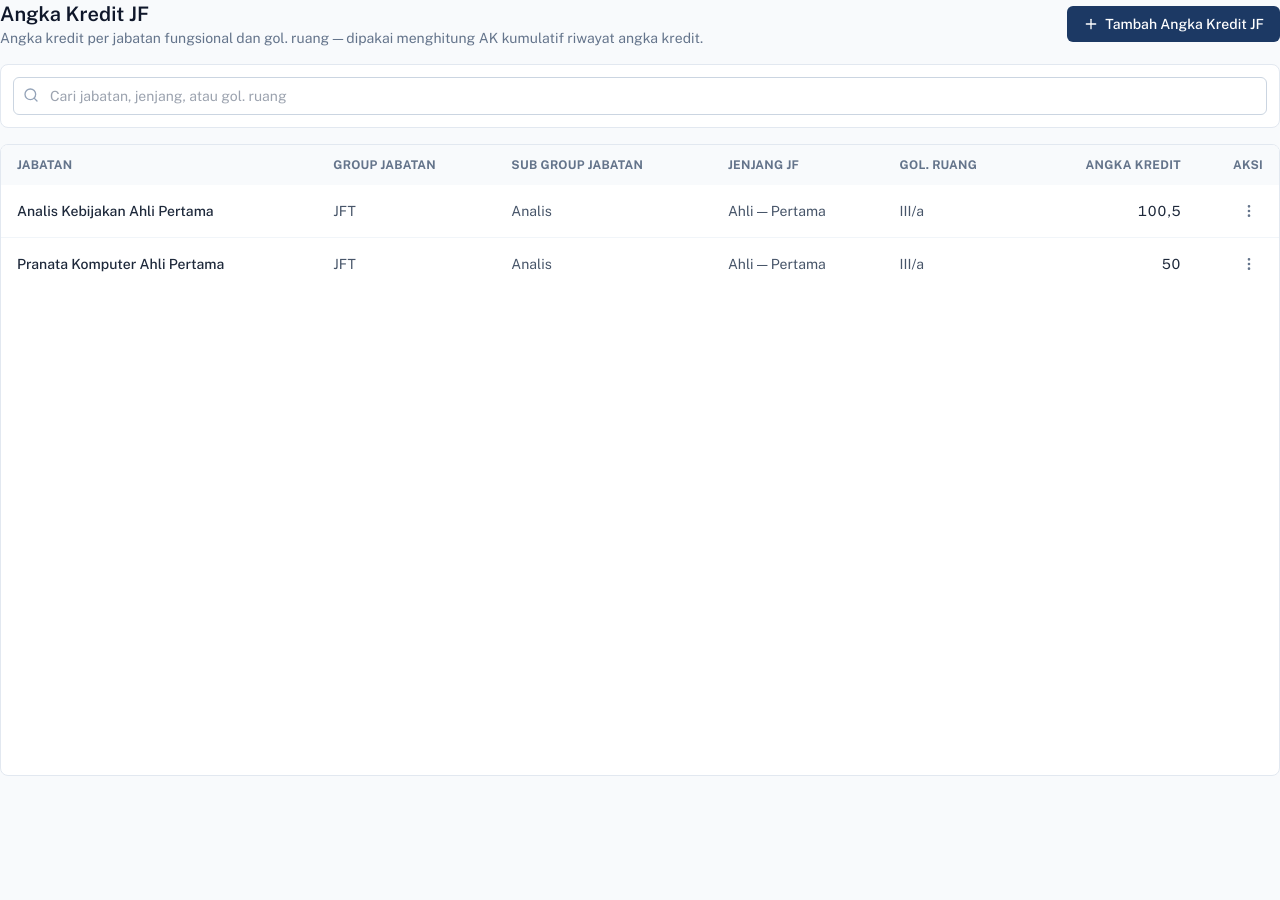
it: MasterAkJfView › tambah: validasi klien (wajib, AK angka maks 3 desimal) tanpa memanggil API
The width and height of the screenshot is (1280, 900).
Click the button with test id "ak-jf-add" at (1174, 24), box [1067,6,1279,42]
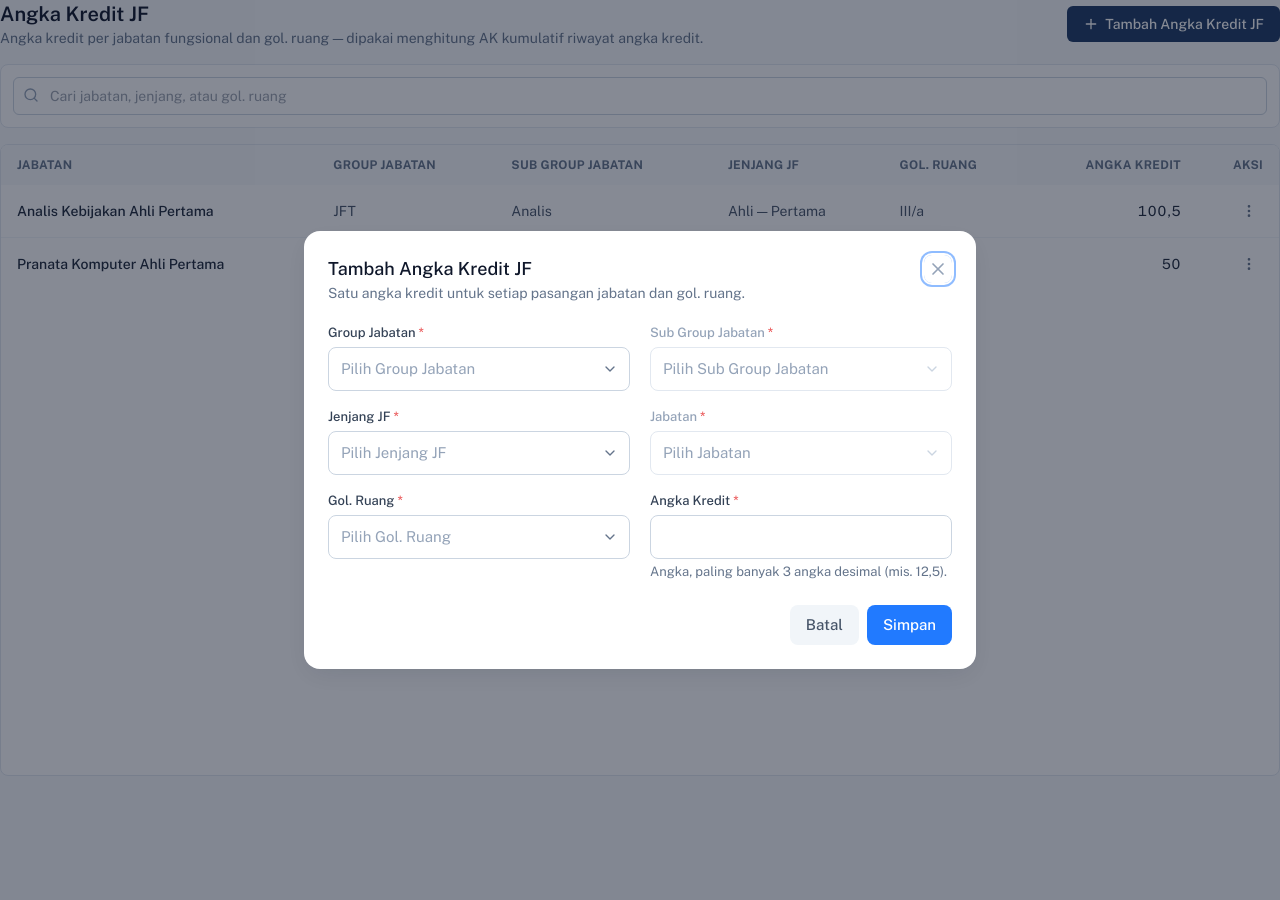
Type "1,2345" into the field named "ak" at (801, 537), box [650,515,952,559]
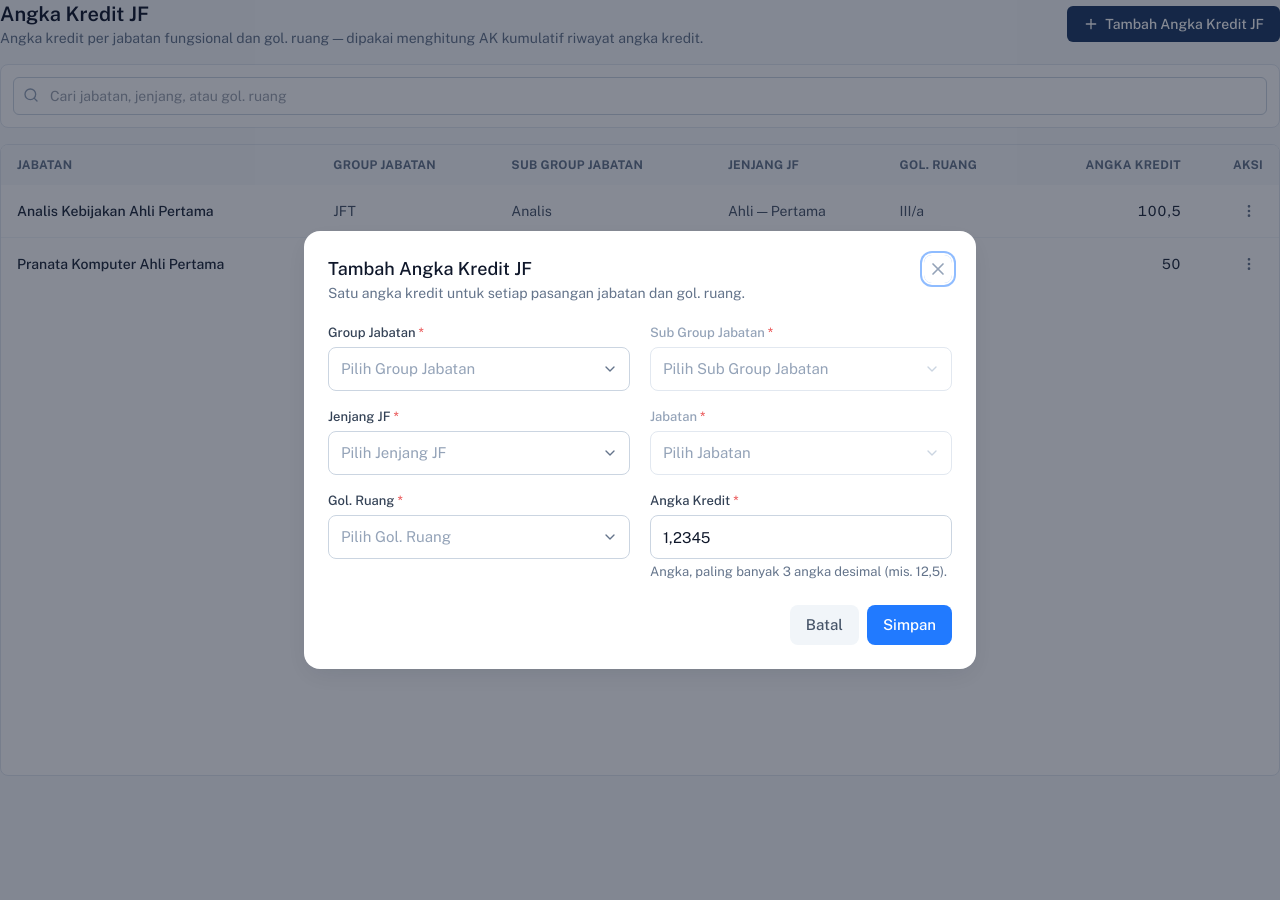
Submit the form with test id "ak-jf-form", box [328,323,952,645]
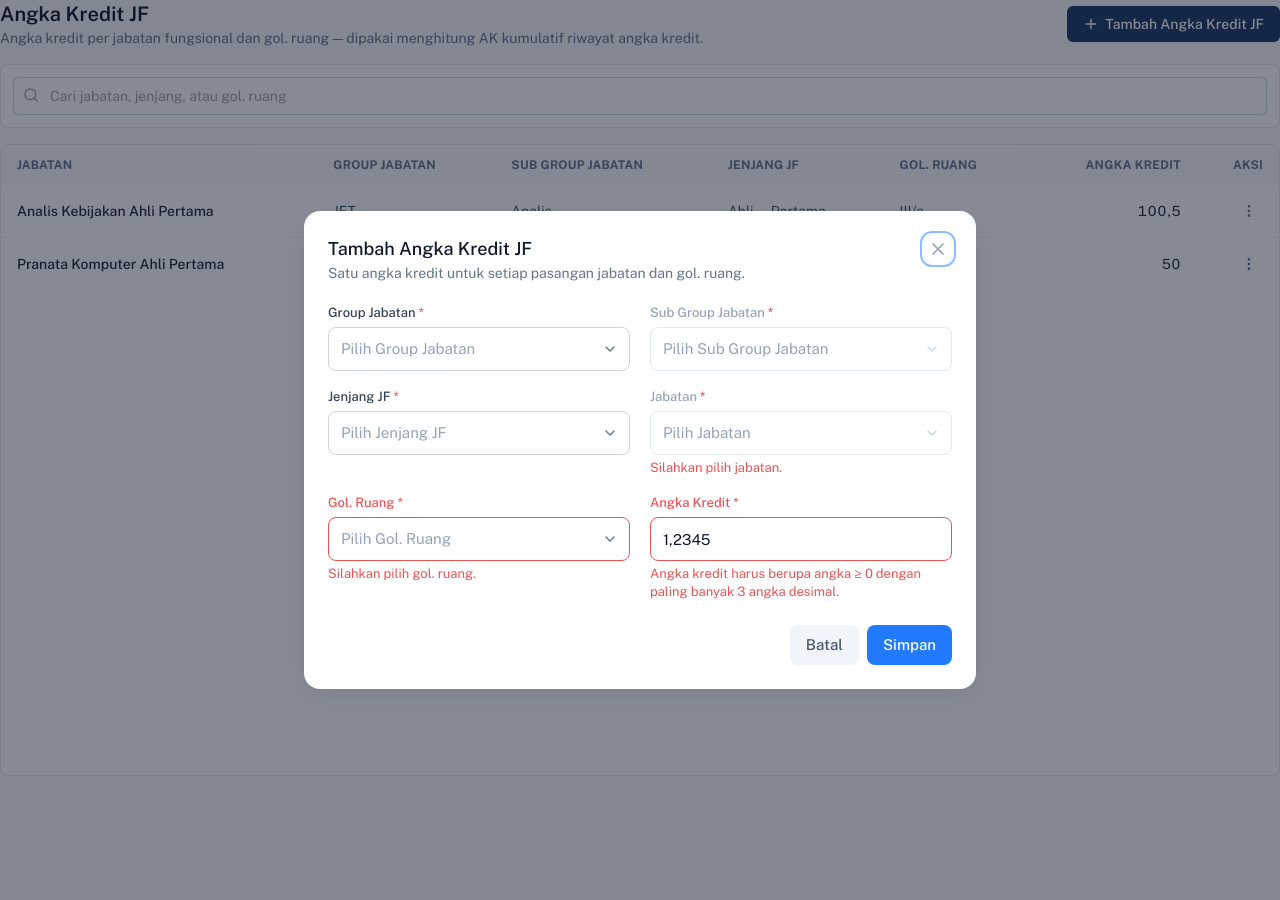
Now the form with test id "ak-jf-form" shows "paling banyak 3 angka desimal", box [650,566,921,599]
Now the form with test id "ak-jf-form" shows "Silahkan pilih jabatan.", box [650,460,782,475]
Now the form with test id "ak-jf-form" shows "Silahkan pilih gol. ruang.", box [328,566,476,581]
